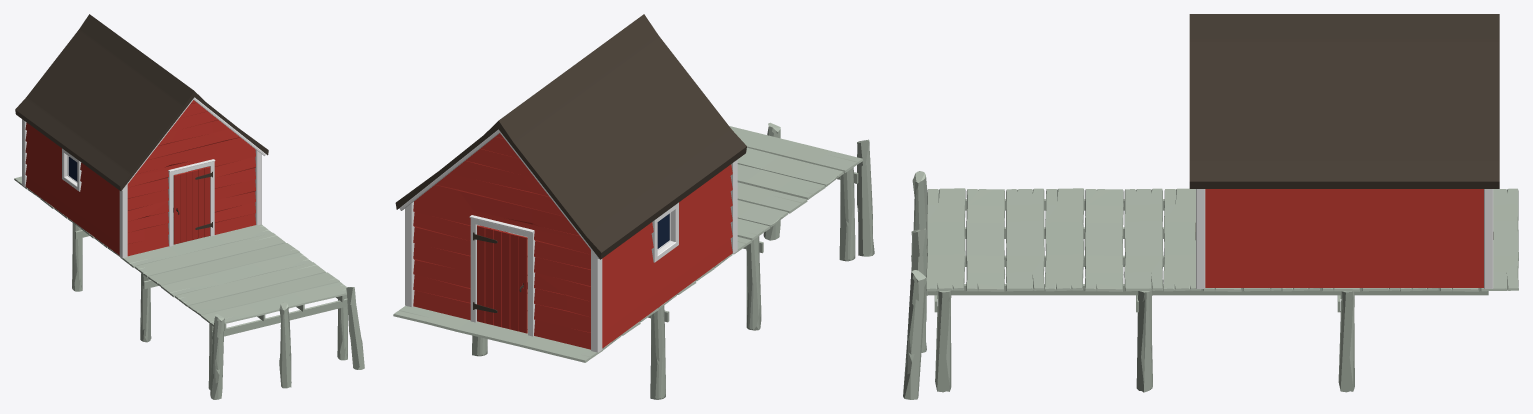
The model's file is fishingHut.glb.
3 views of the same model, side by side, from view 1: azimuth 30°, elevation 25°; view 2: azimuth 150°, elevation 25°; view 3: azimuth 270°, elevation 25° (orthographic). The views are drawn at different scales.
Visible parts, largest first — view 1: Roof.tile, planking.pier.final, hutEnd.seaside, hutwall, door, hutCorner, runner.supports.width, door.frame, pier post.003, pier post.004, pier post.002, pier post - short.006 (+4 smaller); view 2: Roof.tile, hutEnd.seaside, planking.pier.final, hutwall, door, hutCorner, door.frame, pier post.003, pier post - short.005, pier post - short.006, pier post - short.003, window.frame (+1 smaller); view 3: Roof.tile, planking.pier.final, hutwall, runner.supports.length, pier post.002, hutCorner, pier post - short.006, pier post - short.005, pier post - short.003, pier post.004, pier post.003.
Part boxes in pixels (box(x1,y1,x2,y2)): Roof.tile: box(15, 14, 268, 190); planking.pier.final: box(14, 171, 346, 326); hutEnd.seaside: box(127, 100, 255, 256); hutwall: box(25, 122, 207, 255); door: box(173, 166, 210, 244); hutCorner: box(22, 119, 261, 258); runner.supports.width: box(75, 230, 347, 338); door.frame: box(168, 159, 215, 246); pier post.003: box(210, 314, 224, 399); pier post.004: box(279, 302, 291, 388); pier post.002: box(346, 287, 364, 369); pier post - short.006: box(208, 295, 347, 390); Roof.tile: box(395, 14, 746, 259); hutEnd.seaside: box(413, 133, 590, 349); planking.pier.final: box(393, 126, 862, 362); hutwall: box(480, 164, 732, 348); door: box(477, 225, 527, 333); hutCorner: box(405, 159, 737, 352); door.frame: box(469, 215, 535, 336); pier post.003: box(857, 139, 874, 256); pier post - short.005: box(472, 306, 665, 399); pier post - short.006: box(839, 167, 855, 261); pier post - short.003: box(746, 236, 761, 330); window.frame: box(651, 202, 678, 262); Roof.tile: box(1189, 14, 1499, 188); planking.pier.final: box(926, 188, 1518, 291); hutwall: box(1205, 189, 1483, 287); runner.supports.length: box(927, 199, 1488, 295); pier post.002: box(903, 270, 926, 399); hutCorner: box(1196, 189, 1493, 288); pier post - short.006: box(935, 290, 951, 392); pier post - short.005: box(1338, 291, 1354, 392); pier post - short.003: box(1136, 290, 1152, 392); pier post.004: box(911, 228, 926, 352); pier post.003: box(911, 171, 927, 295).
Size of the model in its own units: 4.28 by 6.28 by 10.39.
Materials: 1 (1 with a texture image).
